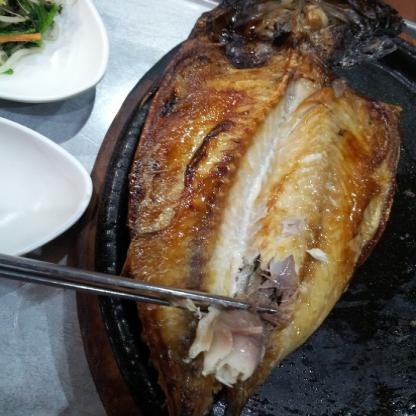Peixe: (116, 0, 415, 380)
